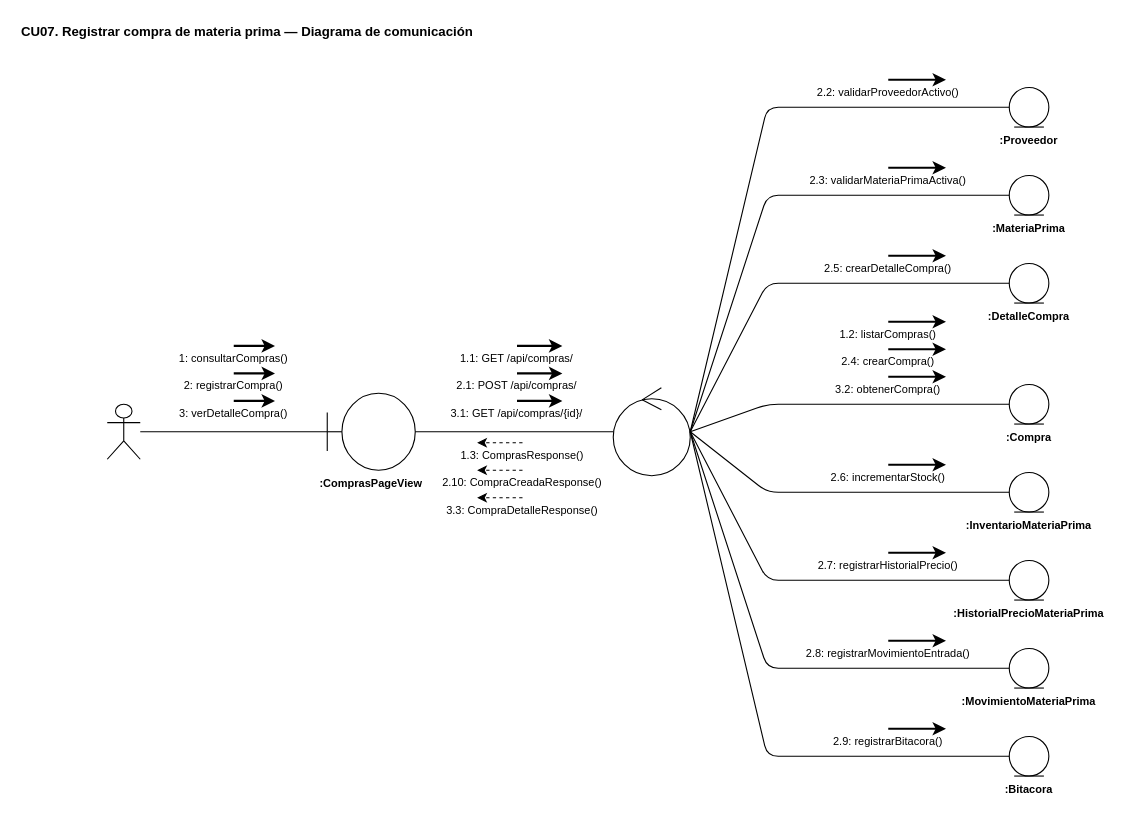
Some shapes in this 1123 by 815 pixel diagram are drawn without their labels. Here are the shapes that lost their labels. From the top down, the box of each, then its label:
(106, 403, 140, 459): :Propietario
(612, 387, 690, 476): :CompraController
